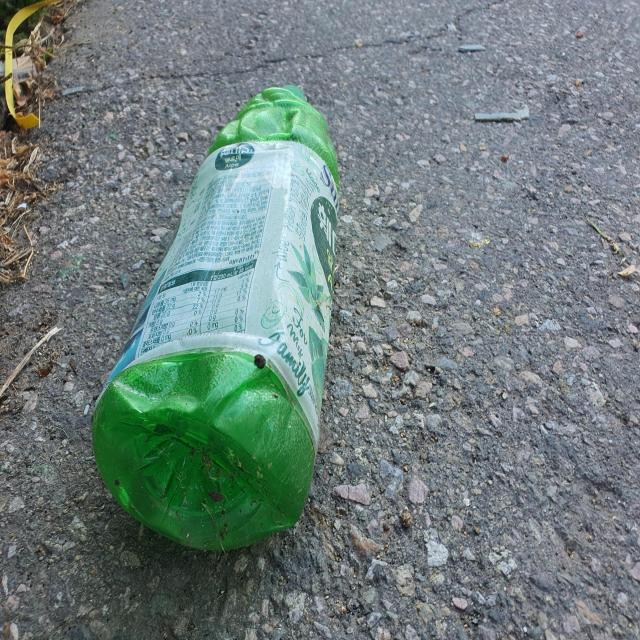plastic: (92, 85, 339, 550)
